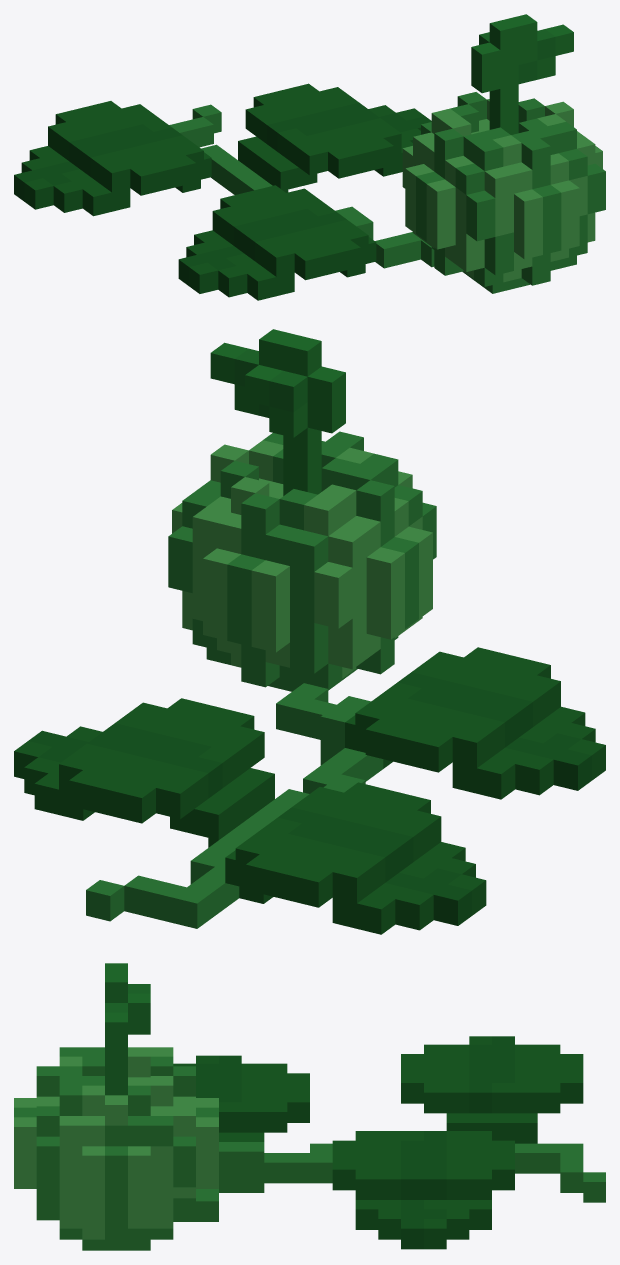
File: Herbácea - Jerimum jovem.obj
The picture shows the model from 3 angles, top to bottom: view 1: azimuth 30°, elevation 25°; view 2: azimuth 150°, elevation 25°; view 3: azimuth 270°, elevation 25°; orthographic projection. The views are drawn at different scales.
Bounding box in the file's own units: 2.1 × 1.3 × 2.6.
Materials: 1 (1 with a texture image).
